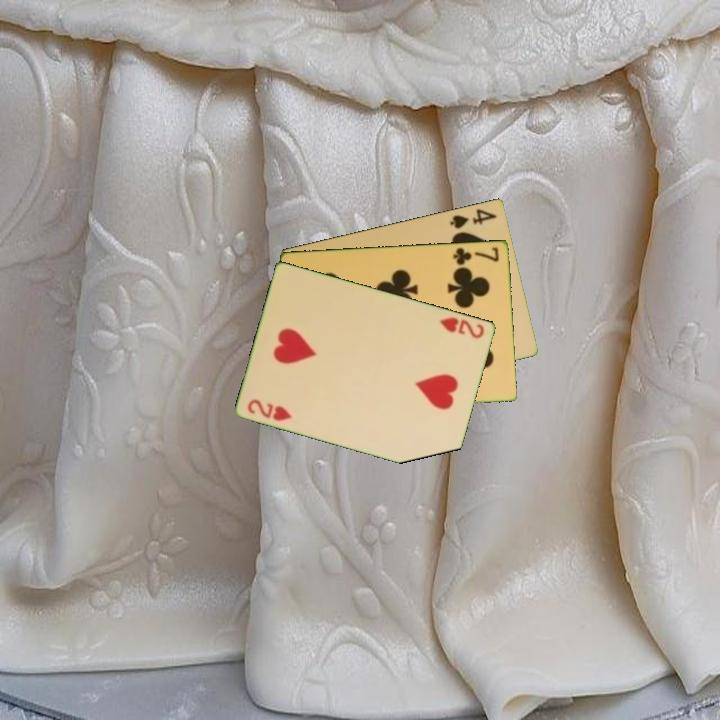2h: (244, 395, 295, 424), (436, 313, 488, 341)
4s: (446, 205, 500, 231)
7c: (450, 244, 502, 268)
